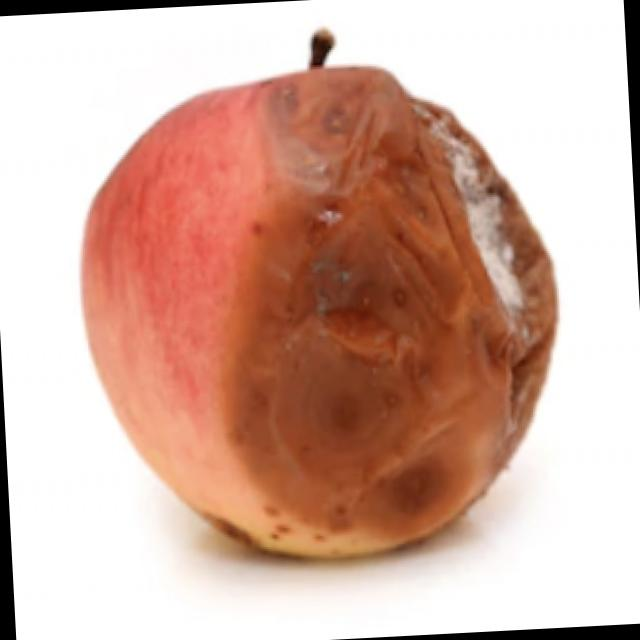rotten_apple: (67, 19, 574, 568)
